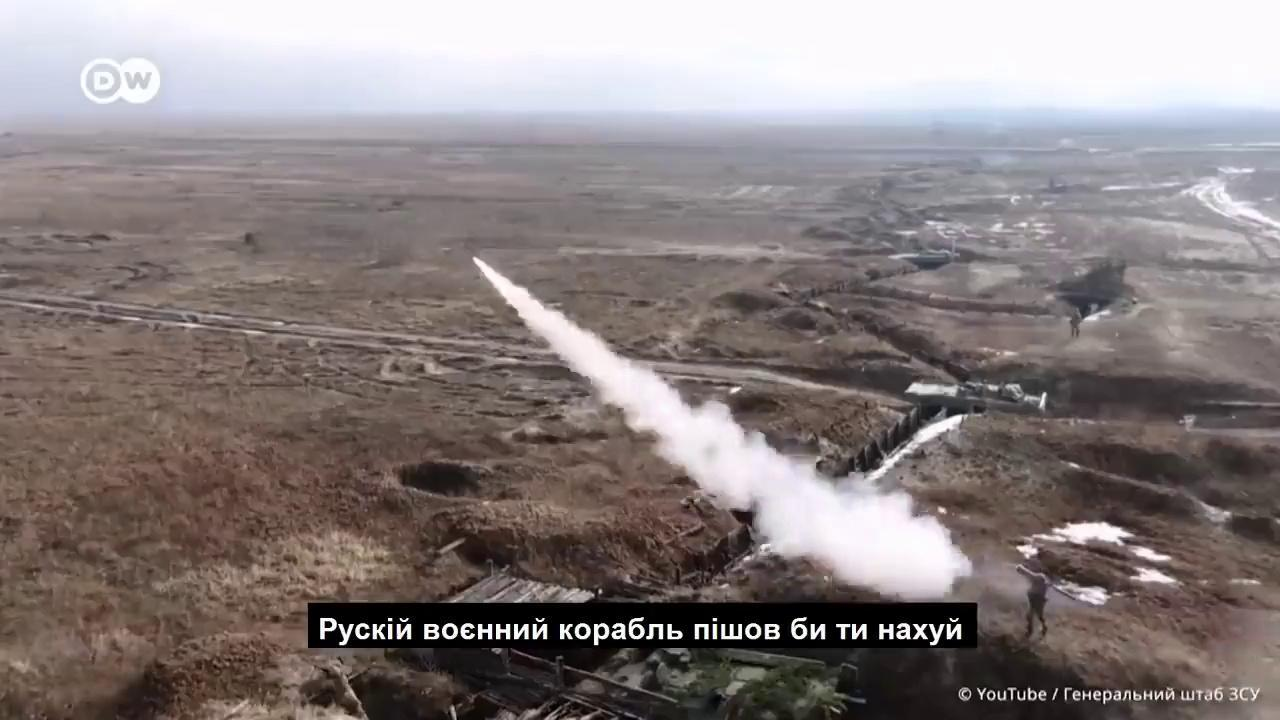person: (1017, 564, 1053, 640), (1069, 308, 1083, 337)
